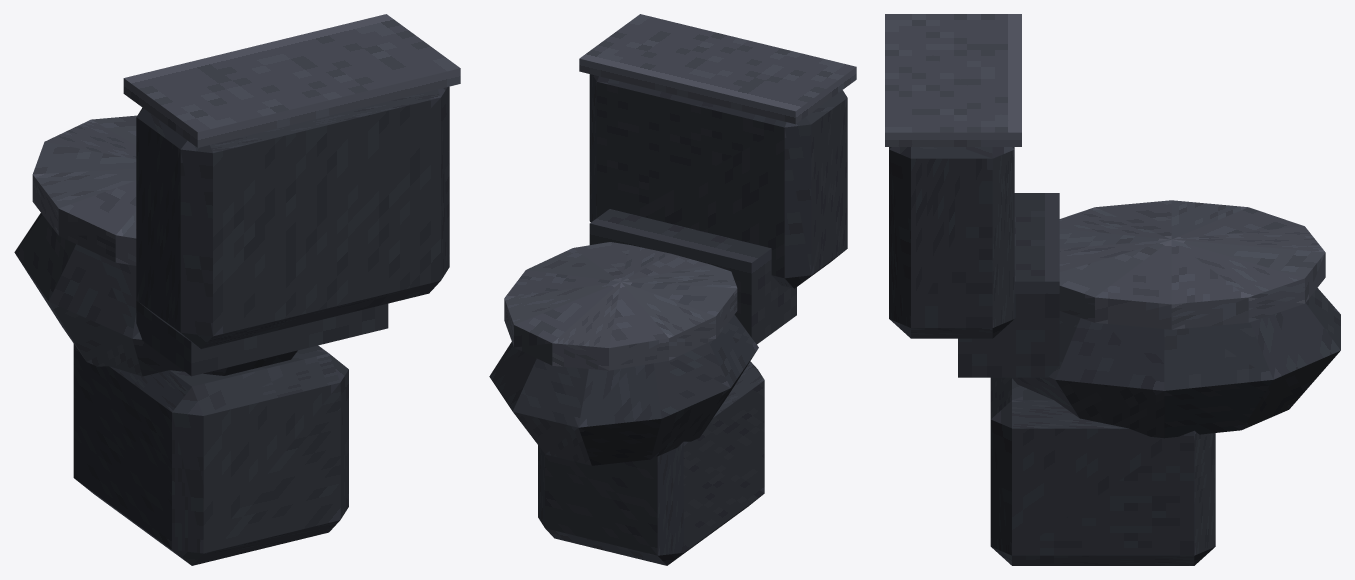
The model's file is f_vitrified_toilet.glb.
The picture shows the model from 3 angles, left to right: view 1: azimuth 30°, elevation 25°; view 2: azimuth 150°, elevation 25°; view 3: azimuth 270°, elevation 25°; orthographic projection. The views are drawn at different scales.
Parts seen in each view (by area): view 1: block_glassy-closed-cistern, block_black-glass-pedestal, block_glassy-cistern-rim, block_molded-onyx-bowl, block_fused-shut-glass-lid, block_tank-to-bowl-joining-piece; view 2: block_glassy-closed-cistern, block_black-glass-pedestal, block_fused-shut-glass-lid, block_molded-onyx-bowl, block_glassy-cistern-rim, block_tank-to-bowl-joining-piece; view 3: block_black-glass-pedestal, block_fused-shut-glass-lid, block_molded-onyx-bowl, block_glassy-closed-cistern, block_glassy-cistern-rim, block_tank-to-bowl-joining-piece.
Part boxes in pixels (x1,y1,x2,y2): block_glassy-closed-cistern: (136, 86, 449, 348); block_black-glass-pedestal: (73, 343, 348, 565); block_glassy-cistern-rim: (123, 14, 460, 147); block_molded-onyx-bowl: (14, 213, 297, 376); block_fused-shut-glass-lid: (32, 115, 136, 265); block_tank-to-bowl-joining-piece: (136, 300, 388, 376); block_glassy-closed-cistern: (589, 74, 847, 288); block_black-glass-pedestal: (538, 361, 764, 565); block_fused-shut-glass-lid: (504, 242, 737, 370); block_molded-onyx-bowl: (489, 314, 758, 465); block_glassy-cistern-rim: (579, 14, 856, 124); block_tank-to-bowl-joining-piece: (589, 209, 796, 344); block_black-glass-pedestal: (990, 377, 1215, 565); block_fused-shut-glass-lid: (1059, 200, 1325, 329); block_molded-onyx-bowl: (1012, 288, 1340, 438); block_glassy-closed-cistern: (889, 147, 1014, 338); block_glassy-cistern-rim: (885, 14, 1021, 146); block_tank-to-bowl-joining-piece: (958, 193, 1059, 377).
Bounding box in the file's own units: 0.432 × 0.766 × 0.6853.
Materials: 1 (1 with a texture image).
